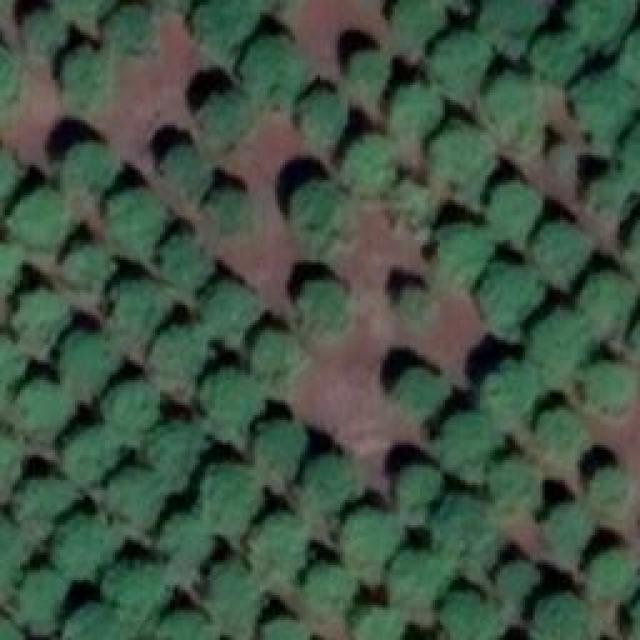Tree: (143, 418, 213, 483), (240, 35, 303, 103), (337, 505, 405, 568), (54, 510, 115, 578), (478, 70, 543, 133), (245, 510, 308, 575), (522, 315, 590, 375), (10, 190, 75, 250), (188, 0, 258, 55), (8, 288, 71, 348), (203, 283, 263, 346), (570, 73, 633, 133), (198, 460, 258, 523), (390, 548, 450, 611), (107, 190, 165, 255), (105, 465, 160, 533), (10, 380, 70, 440), (295, 183, 350, 248), (427, 123, 485, 183), (153, 510, 213, 568), (433, 225, 496, 280), (208, 562, 258, 630), (63, 338, 118, 398), (203, 93, 258, 153), (115, 280, 170, 340), (98, 555, 158, 610), (482, 0, 545, 52), (208, 368, 258, 433), (485, 363, 543, 418), (300, 452, 355, 510), (300, 85, 353, 145), (438, 35, 488, 98), (65, 48, 113, 113), (58, 430, 120, 480), (440, 495, 498, 548), (153, 330, 208, 385), (533, 220, 588, 275), (478, 268, 538, 318), (300, 280, 353, 335), (578, 270, 633, 323), (438, 418, 493, 471), (390, 365, 448, 415), (60, 245, 113, 298), (253, 418, 306, 471), (347, 137, 395, 195), (105, 3, 155, 58), (65, 145, 118, 195), (160, 240, 213, 290), (105, 383, 158, 433), (15, 475, 68, 525), (395, 85, 445, 138), (490, 453, 540, 506), (298, 563, 348, 616), (17, 570, 65, 625), (530, 32, 585, 80), (580, 360, 635, 408), (543, 592, 598, 640), (570, 0, 635, 40), (585, 550, 638, 598), (538, 503, 588, 553), (485, 185, 533, 235), (538, 410, 588, 458), (158, 148, 211, 193), (380, 180, 435, 223), (395, 0, 450, 42), (393, 465, 446, 508), (210, 185, 255, 235), (250, 333, 300, 378), (445, 590, 490, 640), (0, 45, 28, 120), (497, 558, 545, 601), (0, 520, 28, 593), (157, 605, 215, 640), (70, 600, 120, 640), (348, 53, 393, 96), (590, 462, 630, 510), (350, 605, 403, 640), (585, 173, 628, 216), (27, 10, 65, 58), (395, 288, 438, 328), (58, 0, 120, 25), (0, 335, 22, 405), (620, 20, 640, 85), (0, 245, 20, 305), (622, 115, 640, 180), (0, 433, 20, 486), (0, 145, 18, 200), (260, 620, 308, 640), (625, 215, 640, 265)
